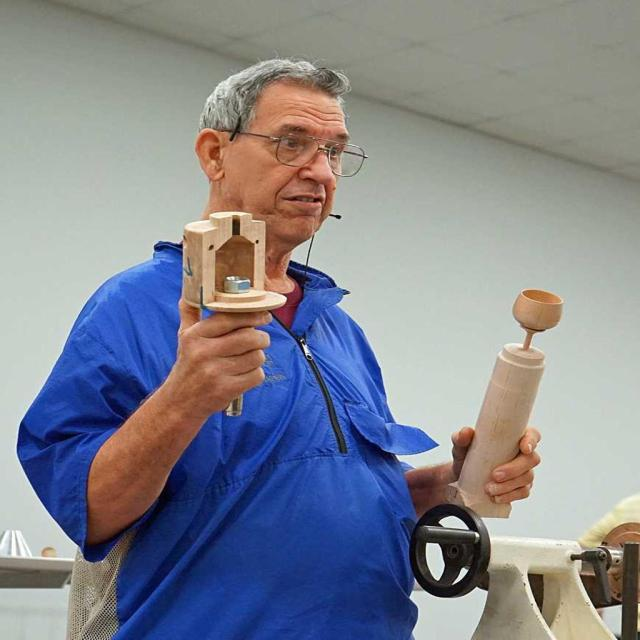Face: (228, 80, 370, 252)
